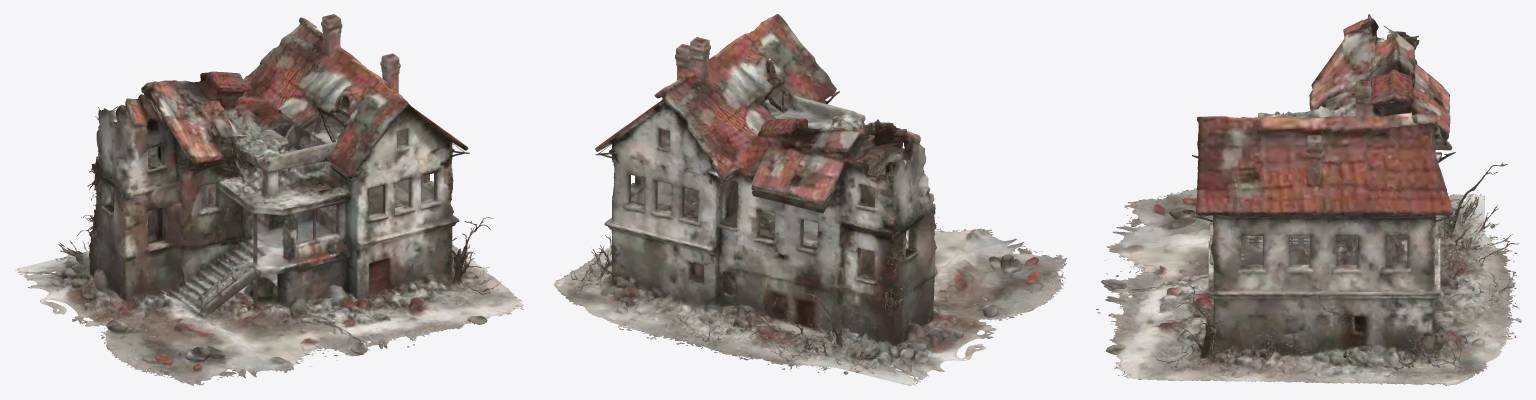
File: building ruined large.glb
3 views of the same model, side by side, from view 1: azimuth 30°, elevation 25°; view 2: azimuth 150°, elevation 25°; view 3: azimuth 270°, elevation 25° (orthographic). The views are drawn at different scales.
Bounding box in the file's own units: 1.9 × 1.11 × 1.7.
Materials: 1 (1 with a texture image).
